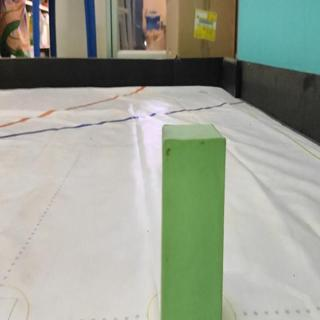greenbox: (159, 122, 228, 320)
